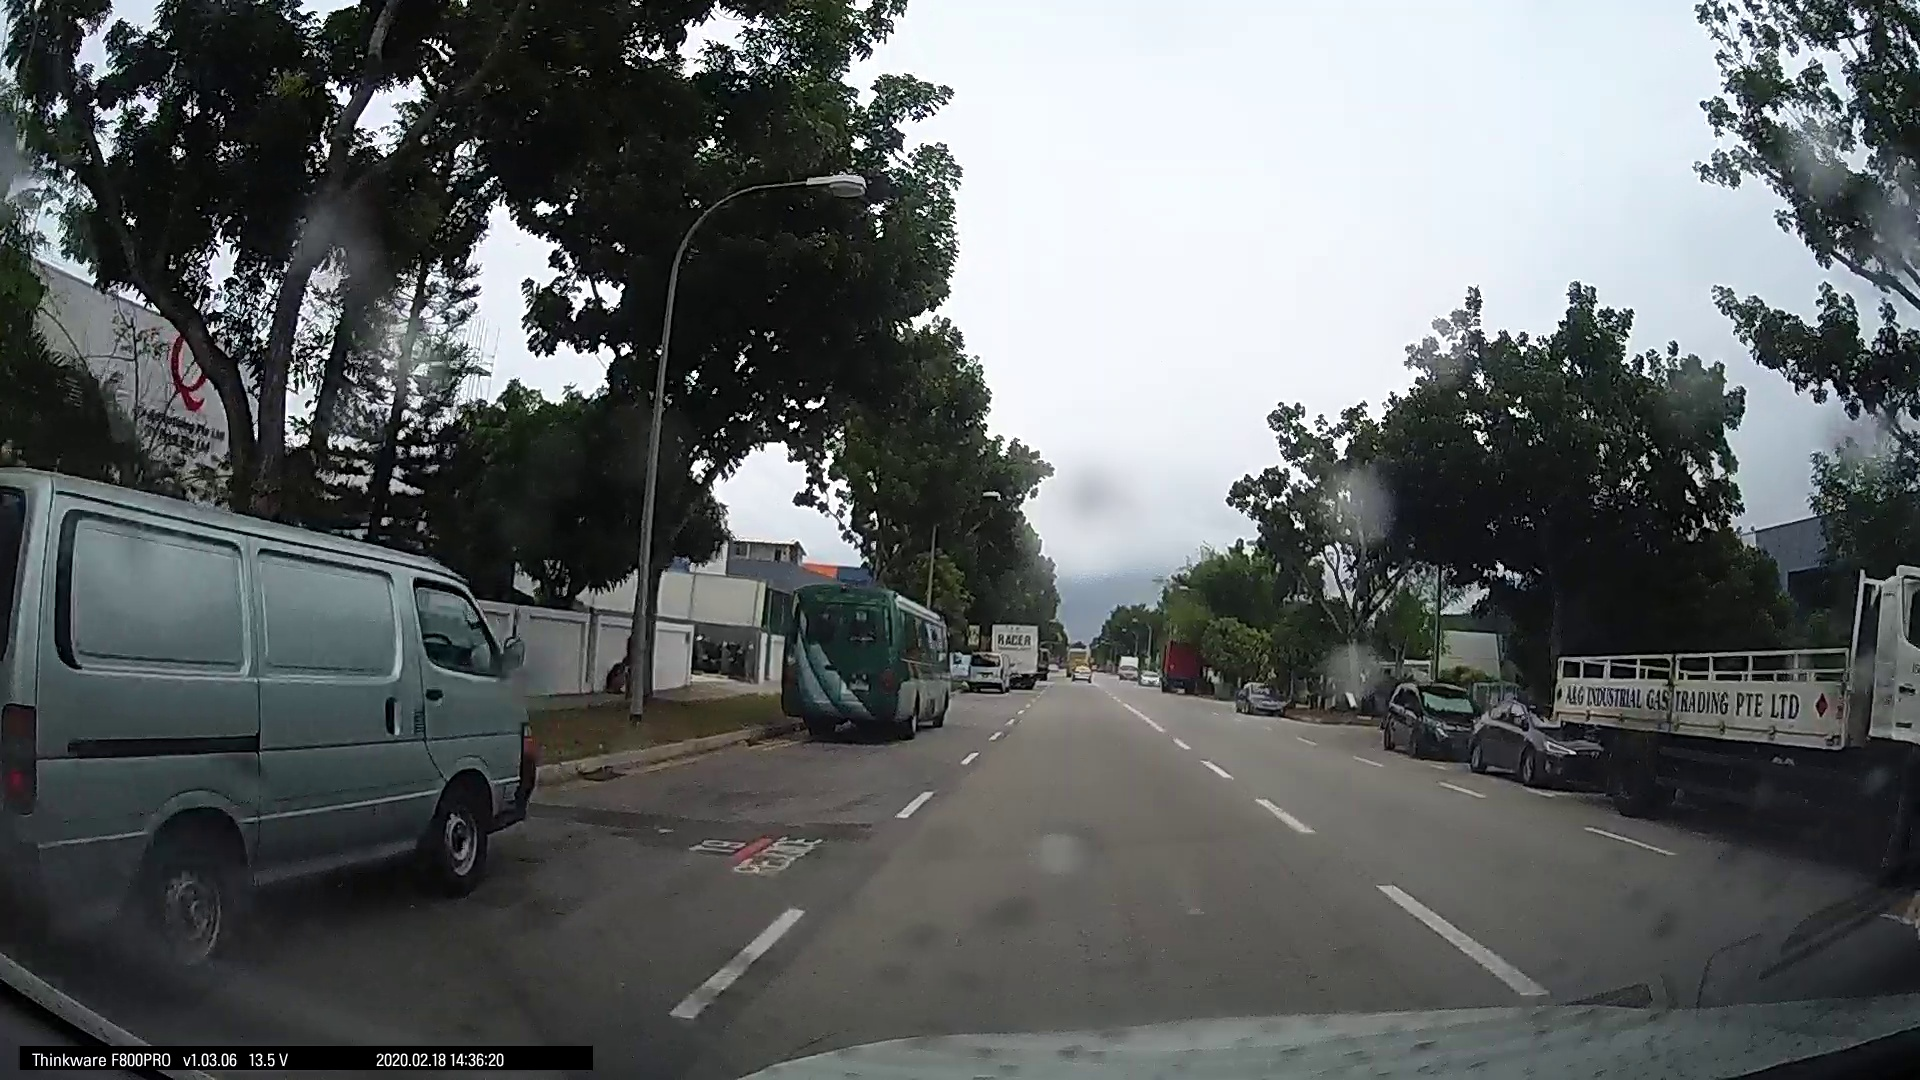Heavy Vehicle: (1567, 541, 1917, 812), (783, 575, 957, 742), (978, 620, 1044, 687)
Light Vehicle: (13, 497, 533, 969), (1461, 691, 1600, 786), (1377, 676, 1477, 761)
